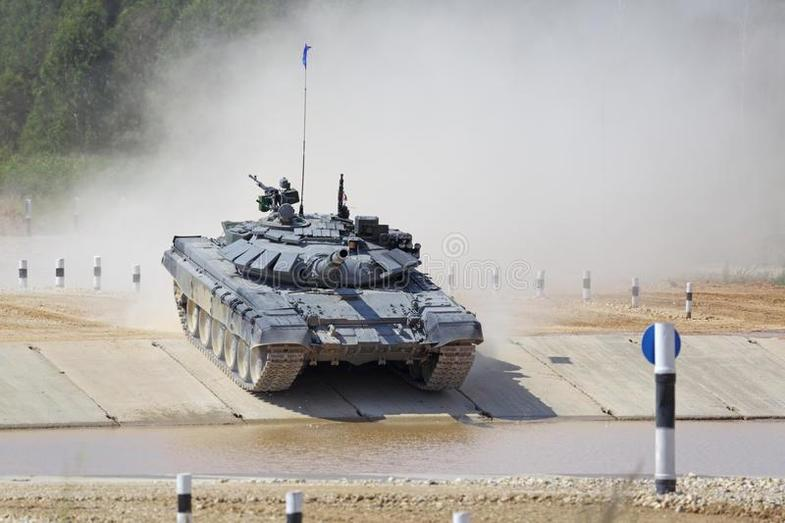t72: (166, 197, 483, 400)
